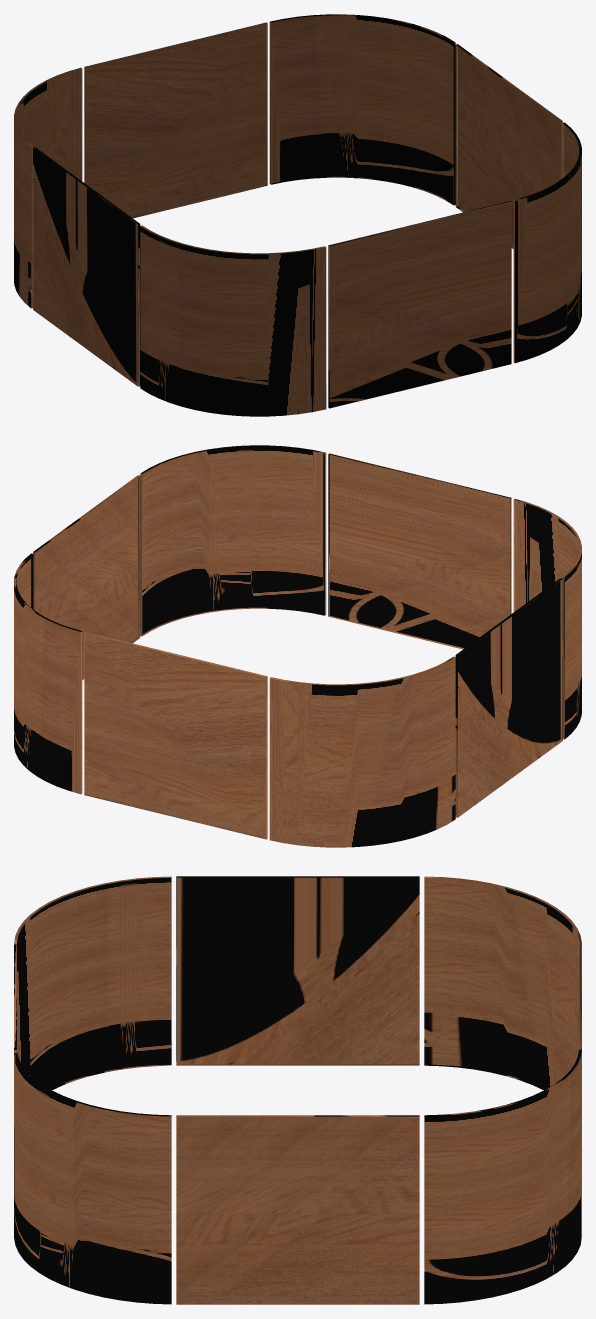
Rendered from delfi.gltf.
3 renders of one model, top to bottom at view 1: azimuth 30°, elevation 25°; view 2: azimuth 150°, elevation 25°; view 3: azimuth 270°, elevation 25°, orthographic. The views are drawn at different scales.
Parts seen in each view (by area): view 1: Sides; view 2: Sides; view 3: Sides.
Boxes of the visible parts, bbox=[...] form: Sides: bbox=[14, 14, 581, 416]; Sides: bbox=[14, 445, 581, 847]; Sides: bbox=[14, 876, 581, 1304].
Size of the model in its own units: 1.88 by 0.6858 by 1.88.
1 material, 1 textured.
